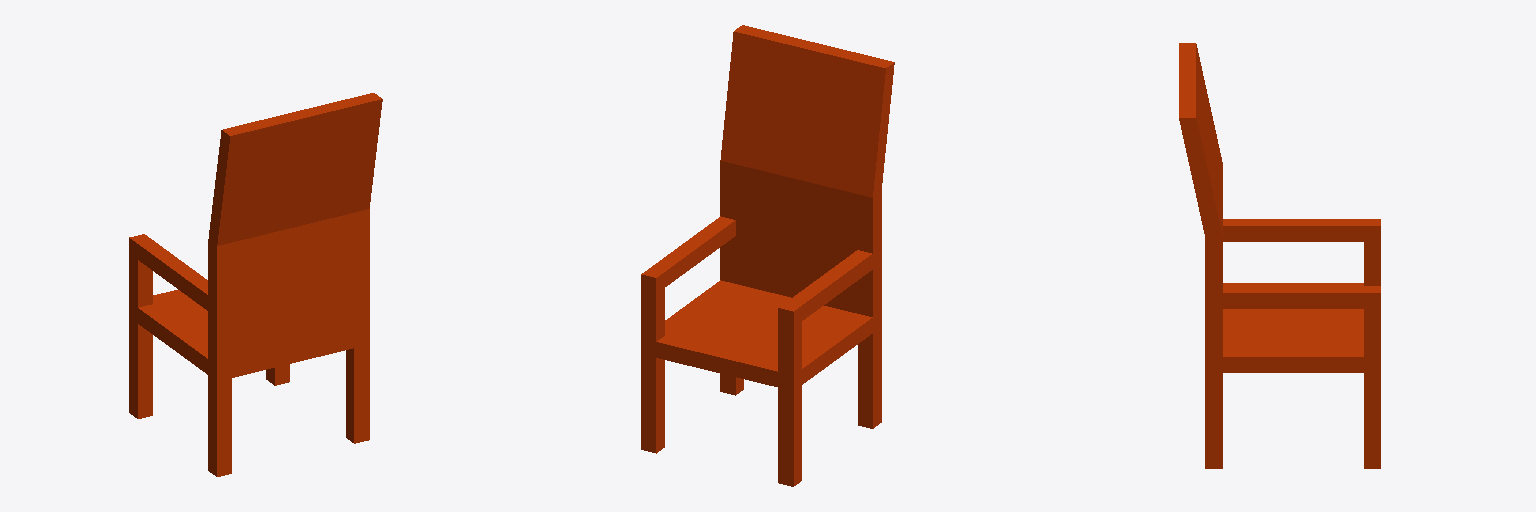
Rendered from chair_2.obj.
3 views of the same model, side by side, from view 1: azimuth 30°, elevation 25°; view 2: azimuth 150°, elevation 25°; view 3: azimuth 270°, elevation 25° (orthographic).
Parts seen in each view (by area): view 1: chair_02; view 2: chair_02; view 3: chair_02.
Part boxes in pixels (bbox=[...]): chair_02: bbox=[129, 93, 382, 476]; chair_02: bbox=[641, 25, 894, 486]; chair_02: bbox=[1179, 43, 1380, 468].
Size of the model in its own units: 0.7366 by 1.62 by 0.8471.